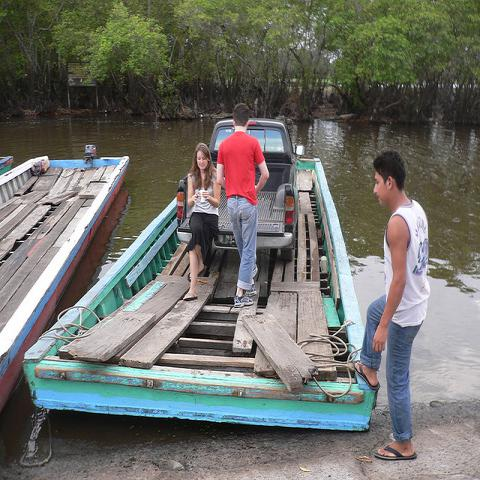truck: (176, 116, 308, 261)
